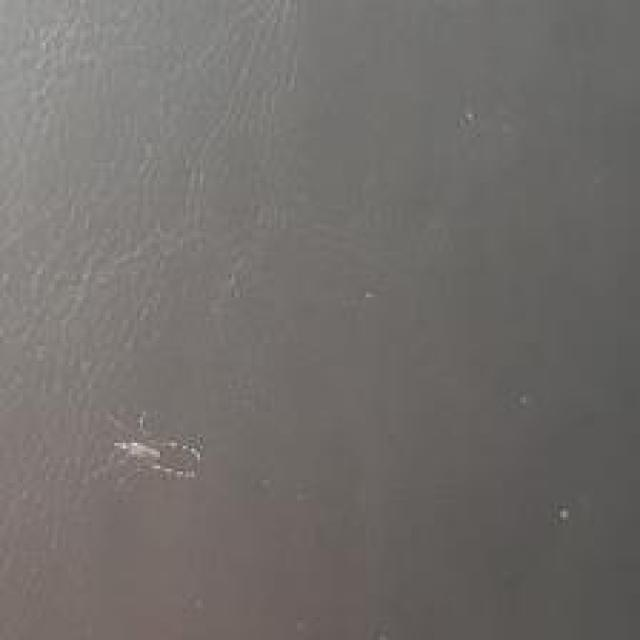Aedes albopictus: (84, 408, 204, 488)
